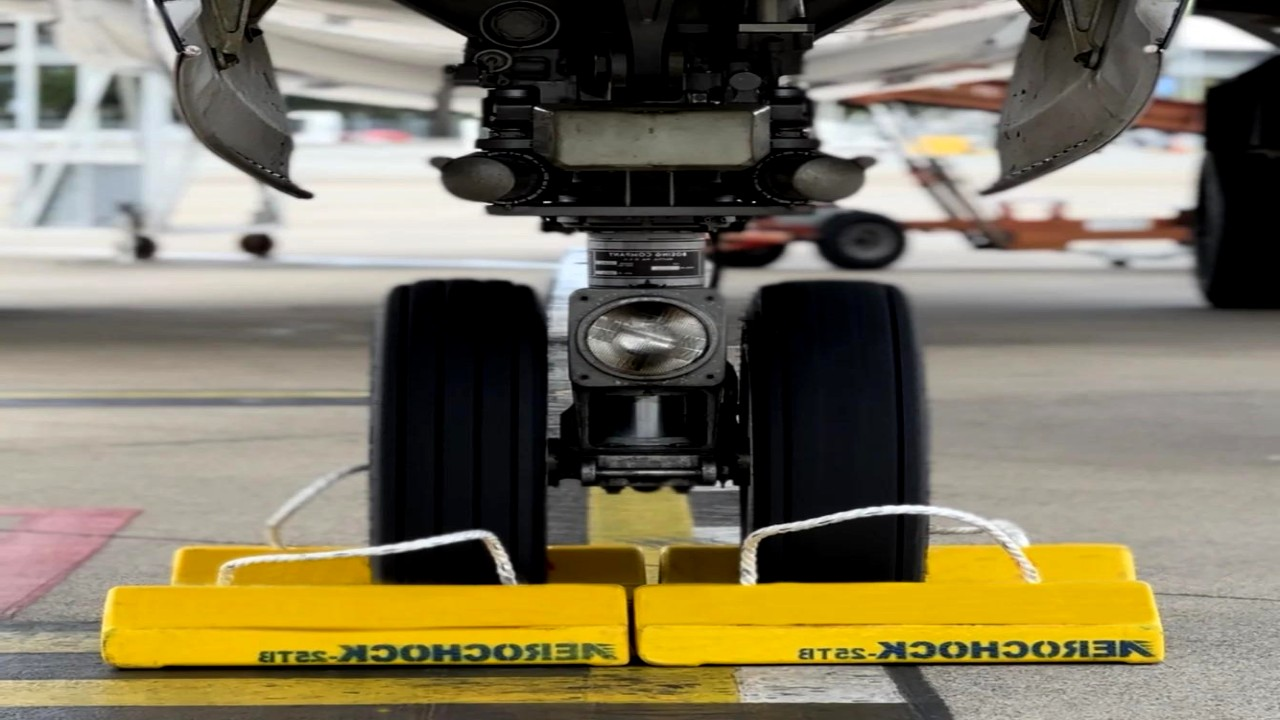chock: (632, 580, 1165, 668), (97, 583, 629, 669), (652, 540, 1141, 586), (162, 544, 647, 587)
wheel: (741, 278, 925, 581), (375, 278, 552, 586), (1194, 168, 1272, 303), (821, 212, 906, 267), (720, 239, 785, 267)
